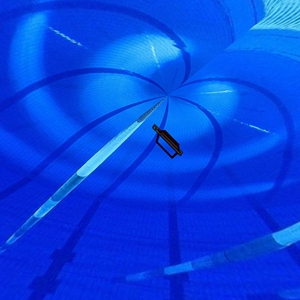submarine: (147, 121, 186, 164)
